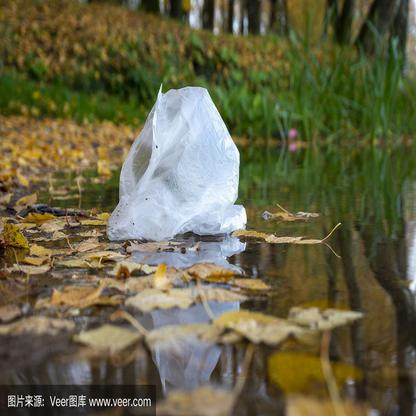plastic bag: (105, 81, 247, 241)
